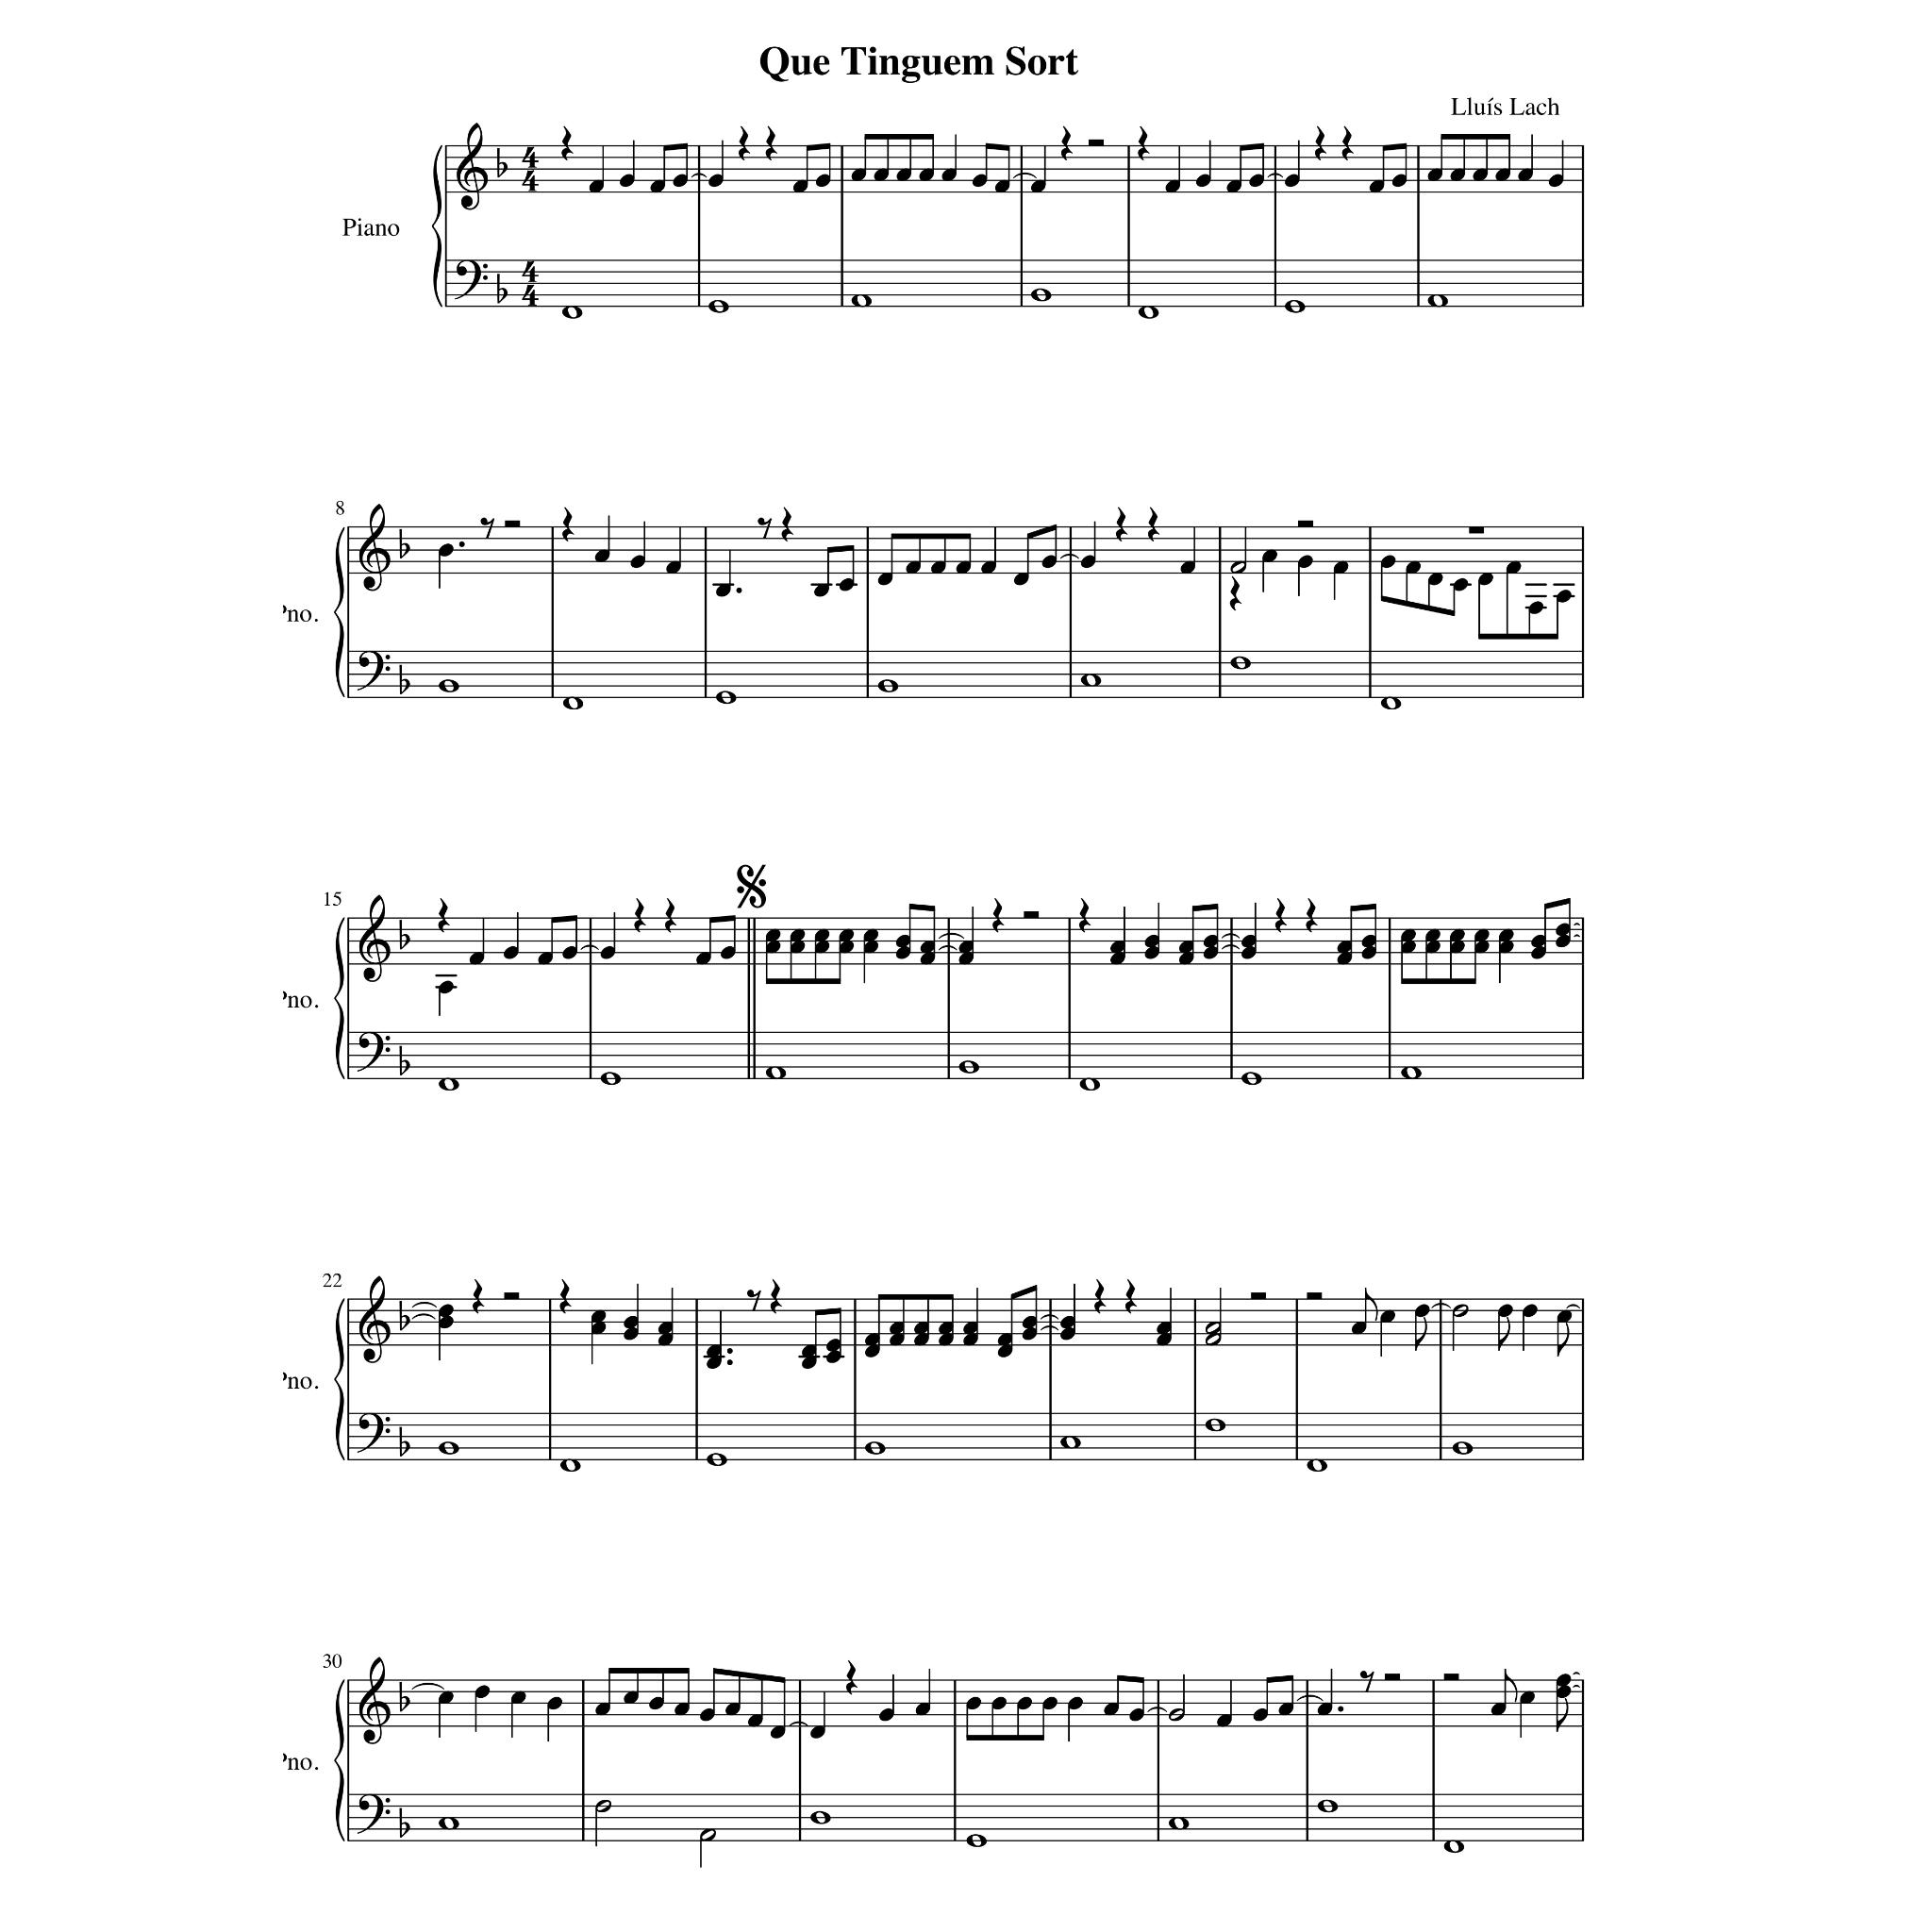brace: (333, 527, 345, 699), (333, 918, 345, 1081), (333, 1679, 345, 1842), (333, 1299, 345, 1460), (432, 145, 442, 308)
fClef: (453, 260, 488, 301), (357, 651, 391, 692), (357, 1031, 391, 1072), (357, 1412, 391, 1453), (357, 1794, 391, 1835)
flag8thDown: (1499, 1316, 1511, 1352), (1415, 1316, 1428, 1352), (1557, 1323, 1569, 1357), (1557, 1697, 1568, 1732)
flag8thUp: (1504, 1668, 1518, 1702), (1366, 1288, 1378, 1322)
gClef: (359, 893, 391, 984), (456, 122, 488, 211), (359, 504, 391, 593), (359, 1276, 391, 1364), (359, 1656, 391, 1744)
noteheadBlack: (1426, 168, 1444, 182), (872, 168, 890, 182), (1497, 929, 1514, 943), (1497, 939, 1514, 954), (957, 952, 975, 966), (957, 939, 975, 954), (1155, 1322, 1173, 1336), (1155, 1332, 1173, 1346), (1284, 173, 1300, 188), (1249, 173, 1265, 188), (1194, 173, 1210, 188), (1495, 168, 1511, 182), (1472, 168, 1488, 182), (1449, 168, 1465, 182), (1548, 173, 1564, 188), (1518, 168, 1534, 182), (1392, 173, 1408, 188), (708, 173, 724, 188), (672, 173, 688, 188), (816, 173, 832, 188), (619, 173, 635, 188), (971, 173, 987, 188), (941, 168, 957, 182), (918, 168, 934, 182), (895, 168, 911, 182), (851, 168, 867, 182), (1297, 556, 1313, 570), (1079, 556, 1095, 570), (1040, 556, 1056, 570), (1180, 561, 1196, 575), (1529, 602, 1545, 616), (1506, 561, 1522, 575), (1380, 556, 1396, 570), (1332, 561, 1348, 575), (1405, 561, 1421, 575), (715, 584, 731, 598), (665, 561, 681, 575), (630, 556, 646, 570), (437, 543, 453, 557), (980, 561, 996, 575), (955, 561, 971, 575), (931, 561, 947, 575), (906, 561, 922, 575), (812, 584, 828, 598), (1240, 934, 1256, 948), (1203, 934, 1219, 948), (1178, 939, 1194, 954), (1178, 952, 1194, 966), (1145, 934, 1161, 948), (1109, 939, 1125, 954), (1109, 952, 1125, 966), (1530, 934, 1546, 948), (1555, 934, 1571, 948), (1474, 929, 1490, 943), (1474, 939, 1490, 954), (1401, 929, 1417, 943), (1401, 939, 1417, 954), (1361, 934, 1376, 948), (1336, 939, 1352, 954), (1336, 952, 1352, 966), (1424, 939, 1440, 954), (1449, 929, 1465, 943), (1449, 939, 1465, 954), (1424, 929, 1440, 943), (538, 952, 554, 966), (469, 952, 485, 966), (695, 952, 711, 966), (437, 980, 453, 994), (839, 929, 855, 943), (839, 939, 855, 954), (814, 929, 830, 943), (814, 939, 830, 954), (920, 952, 936, 966), (895, 934, 911, 948), (920, 939, 936, 954), (863, 929, 879, 943), (863, 939, 879, 954), (789, 939, 805, 954), (764, 929, 780, 943), (764, 939, 780, 954), (789, 929, 805, 943), (1060, 1327, 1076, 1341), (1021, 1327, 1037, 1341), (996, 1332, 1012, 1346), (962, 1322, 978, 1336), (962, 1332, 978, 1346), (1350, 1322, 1366, 1336), (591, 1322, 607, 1336), (656, 1322, 672, 1336), (656, 1332, 672, 1346), (623, 1327, 639, 1341), (863, 1332, 879, 1346), (890, 1332, 906, 1346), (890, 1322, 906, 1336), (826, 1350, 842, 1364), (938, 1332, 954, 1346), (938, 1322, 954, 1336), (913, 1322, 929, 1336), (913, 1332, 929, 1346), (1316, 1702, 1332, 1716), (1277, 1702, 1293, 1716), (1042, 1697, 1058, 1711), (1017, 1697, 1033, 1711), (991, 1697, 1007, 1711), (1104, 1702, 1120, 1716), (1067, 1697, 1083, 1711), (1555, 1684, 1571, 1698), (1490, 1702, 1506, 1716), (648, 1697, 663, 1711), (725, 1702, 741, 1716), (674, 1702, 690, 1716), (474, 1684, 490, 1698), (594, 1702, 610, 1716), (547, 1697, 563, 1711), (966, 1697, 982, 1711), (915, 1702, 931, 1716), (770, 1725, 786, 1739), (810, 1725, 826, 1739), (587, 180, 605, 193), (1497, 1304, 1514, 1316), (1557, 589, 1571, 603), (1226, 180, 1242, 193), (1164, 180, 1180, 193), (1368, 180, 1384, 193), (649, 180, 665, 193), (793, 180, 809, 193), (1030, 180, 1046, 193), (994, 180, 1010, 193), (1261, 550, 1277, 563), (1012, 573, 1028, 586), (1477, 573, 1493, 586), (1453, 579, 1468, 591), (1428, 573, 1444, 586), (594, 550, 610, 563), (878, 573, 893, 586), (839, 579, 855, 591), (1240, 947, 1256, 959), (1203, 947, 1219, 959), (1145, 947, 1161, 959), (1555, 924, 1571, 936), (1530, 947, 1546, 959), (1361, 947, 1376, 959), (600, 947, 616, 959), (563, 947, 579, 959), (720, 947, 736, 959), (502, 947, 518, 959), (895, 947, 911, 959), (1060, 1316, 1076, 1329), (1021, 1316, 1037, 1329), (996, 1345, 1012, 1357), (1557, 1311, 1573, 1323), (1522, 1304, 1537, 1316), (1415, 1304, 1431, 1316), (1380, 1311, 1396, 1323), (591, 1311, 607, 1323), (706, 1345, 722, 1357), (706, 1357, 722, 1369), (623, 1316, 639, 1329), (437, 1304, 453, 1316), (437, 1316, 453, 1329), (863, 1345, 879, 1357), (826, 1339, 842, 1352), (801, 1357, 817, 1369), (801, 1345, 817, 1357), (1217, 1714, 1233, 1727), (1253, 1709, 1269, 1721), (1129, 1709, 1145, 1721), (1555, 1674, 1571, 1686), (1520, 1691, 1536, 1704), (623, 1691, 639, 1704), (699, 1709, 715, 1721), (437, 1691, 453, 1704), (510, 1691, 525, 1704), (878, 1709, 893, 1721), (747, 1714, 763, 1727)
noteheadHalf: (1230, 561, 1247, 575), (699, 1828, 717, 1842), (594, 1799, 612, 1813), (1205, 1332, 1221, 1346), (1168, 1709, 1185, 1721), (1205, 1322, 1221, 1334), (1453, 1304, 1468, 1316)
noteheadWhole: (1426, 294, 1449, 308), (1079, 672, 1102, 686), (715, 692, 738, 706), (1240, 1072, 1263, 1086), (957, 1060, 980, 1074), (1451, 1440, 1474, 1454), (1138, 304, 1159, 318), (561, 304, 582, 318), (1030, 288, 1051, 303), (851, 294, 872, 308), (1230, 656, 1251, 671), (1380, 697, 1401, 711), (563, 697, 584, 711), (437, 679, 458, 694), (878, 679, 899, 694), (1079, 1077, 1100, 1092), (600, 1072, 621, 1086), (437, 1077, 458, 1092), (706, 1453, 727, 1467), (437, 1440, 458, 1454), (863, 1440, 885, 1454), (1316, 1799, 1338, 1813), (1444, 1838, 1465, 1852), (966, 1833, 987, 1847), (810, 1810, 832, 1824), (1284, 301, 1306, 313), (708, 301, 729, 313), (1401, 1067, 1422, 1079), (764, 1067, 786, 1079), (1205, 1419, 1226, 1431), (1060, 1437, 1081, 1449), (1306, 1460, 1327, 1472), (559, 1460, 580, 1472), (1168, 1817, 1189, 1829), (437, 1817, 458, 1829)
rest8th: (479, 517, 495, 540), (1359, 1670, 1375, 1693), (757, 517, 771, 540), (747, 1290, 761, 1313)
restHalf: (502, 1292, 520, 1300), (1297, 520, 1313, 529), (504, 520, 520, 529), (1251, 1292, 1267, 1300), (1306, 1292, 1322, 1300), (1384, 1674, 1401, 1681), (1088, 140, 1104, 147), (1023, 911, 1039, 918), (1444, 1674, 1460, 1681)
restQuarter: (1060, 126, 1074, 161), (1125, 1277, 1138, 1315), (1093, 1277, 1106, 1315), (559, 1277, 571, 1315), (472, 1277, 485, 1315), (770, 1277, 782, 1315), (1138, 126, 1150, 161), (1341, 126, 1353, 161), (1315, 126, 1327, 161), (764, 126, 777, 161), (738, 126, 750, 161), (561, 126, 573, 161), (1276, 899, 1288, 934), (1306, 899, 1318, 934), (1079, 899, 1092, 934), (993, 899, 1005, 934), (665, 899, 678, 934), (633, 899, 646, 934), (437, 899, 449, 934), (846, 1660, 858, 1695), (1230, 577, 1242, 610), (1148, 508, 1161, 541), (782, 508, 794, 541), (1116, 508, 1127, 541), (563, 508, 573, 541)
restWhole: (1468, 527, 1484, 534)
